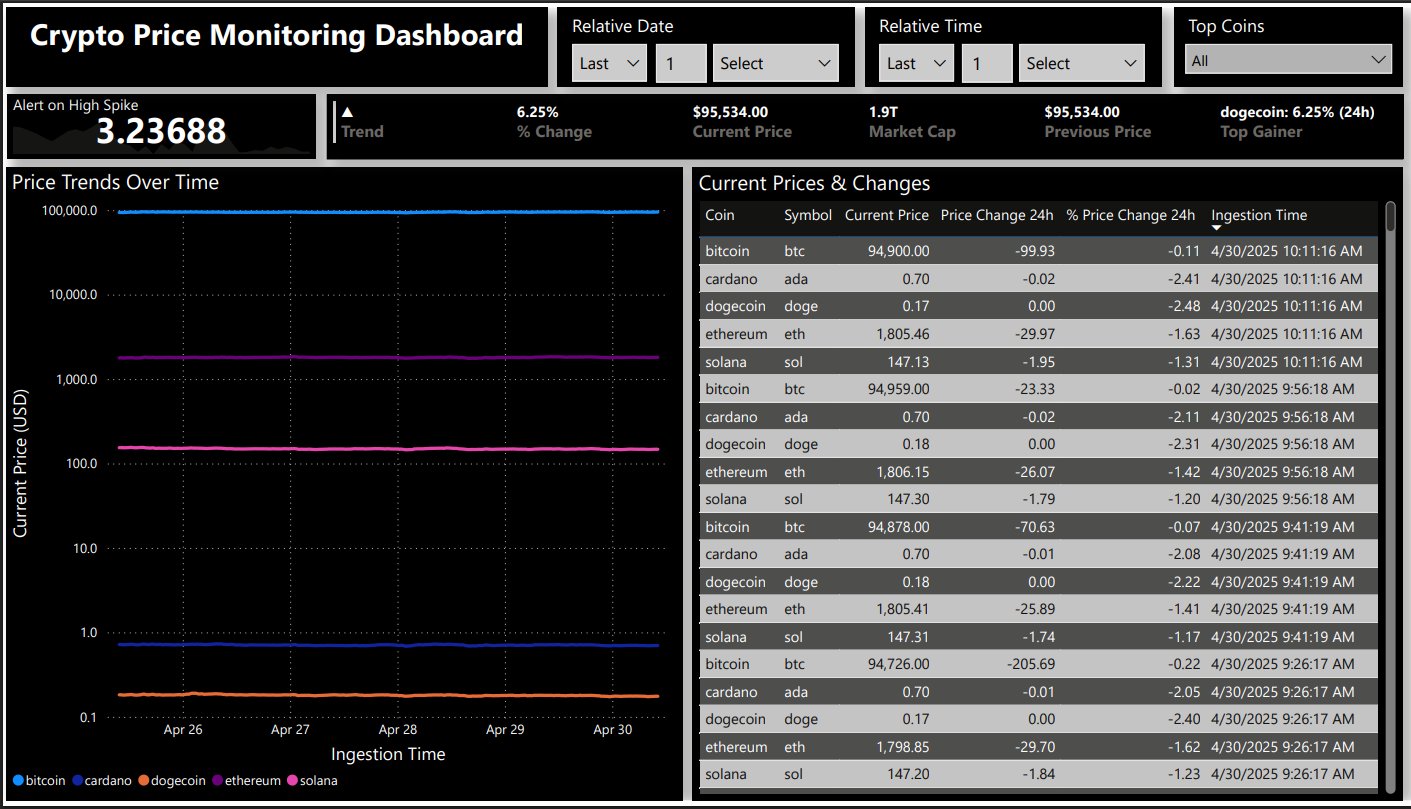

What the dashboard file says about the page in this screenshot:
{"tool":"powerbi","page":{"name":"Page 1","canvas":[1280,720],"ordinal":0},"visuals":[{"type":"lineChart","title":"Price Trends Over Time","fields":{"Y":["Sum(coin_price_data.current_price)"],"Category":["coin_price_data.ingestion_timestamp"],"Series":["coin_price_data.coin_id"]},"box":[4.3,144.8,614.8,575.1],"z":0},{"type":"tableEx","title":"Current Prices & Changes","fields":{"Values":["coin_price_data.coin_id","coin_price_data.symbol","Sum(coin_price_data.current_price)","Sum(coin_price_data.price_change_24h)","Sum(coin_price_data.price_change_percentage_24h)","coin_price_data.ingestion_timestamp"]},"box":[626.6,144.8,645,575.1],"z":1000},{"type":"kpi","title":"Alert on High Spike","fields":{"Indicator":["coin_price_data.Max_24h_Change"],"TrendLine":["coin_price_data.ingestion_timestamp"]},"box":[4.9,79,279.5,59.3],"z":2000},{"type":"slicer","fields":{"Values":["coin_price_data.coin_id"]},"box":[1064.7,0,208.4,72.1],"z":3000},{"type":"multiRowCard","fields":{"Values":["coin_price_data.Dynamic_Trend_Title","coin_price_data.Formatted_Change","coin_price_data.Formatted_CurrentPrice","coin_price_data.Formatted_MarketCap","coin_price_data.Formatted_PreviousPrice","coin_price_data.HighSpikeKPI"]},"box":[295.3,79,977.8,59.3],"z":4000},{"type":"textbox","box":[4,0,491.9,72.1],"z":5000},{"type":"slicer","fields":{"Values":["coin_price_data.ingestion_timestamp"]},"box":[784.2,0,268.6,72.1],"z":6000},{"type":"slicer","fields":{"Values":["coin_price_data.ingestion_timestamp"]},"box":[504.7,0,269.6,72.1],"z":7000}]}

Visuals, with their boxes in screenshot pixels (x1, y1, x2, y2), scaled from the page's 1280x720 canvas onto the 1411x809 screenshot:
"Price Trends Over Time" lineChart: 5:163:682:808
"Current Prices & Changes" tableEx: 691:163:1402:808
"Alert on High Spike" kpi: 5:89:314:155
slicer - coin_price_data.coin_id: 1174:0:1403:81
multiRowCard - coin_price_data.Dynamic_Trend_Title x coin_price_data.Formatted_Change: 326:89:1403:155
textbox: 4:0:547:81
slicer - coin_price_data.ingestion_timestamp: 864:0:1161:81
slicer - coin_price_data.ingestion_timestamp: 556:0:854:81
